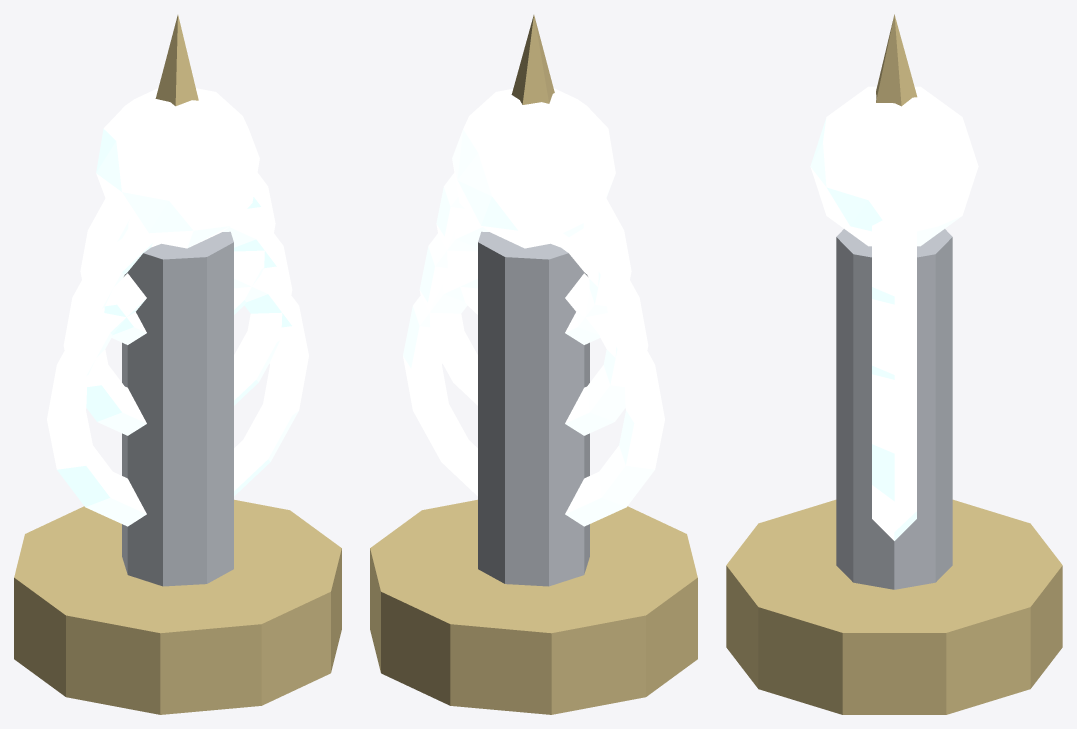
Rendered from turret_coil.glb.
3 views of the same model, side by side, from view 1: azimuth 30°, elevation 25°; view 2: azimuth 150°, elevation 25°; view 3: azimuth 270°, elevation 25° (orthographic).
Parts seen in each view (by area): view 1: turret_coil; view 2: turret_coil; view 3: turret_coil.
Boxes of the visible parts, x1,y1,x2,y2 form: turret_coil: (14, 15, 341, 714); turret_coil: (370, 15, 697, 714); turret_coil: (726, 14, 1062, 714).
Bounding box in the file's own units: 0.4945 × 1.08 × 0.52.
